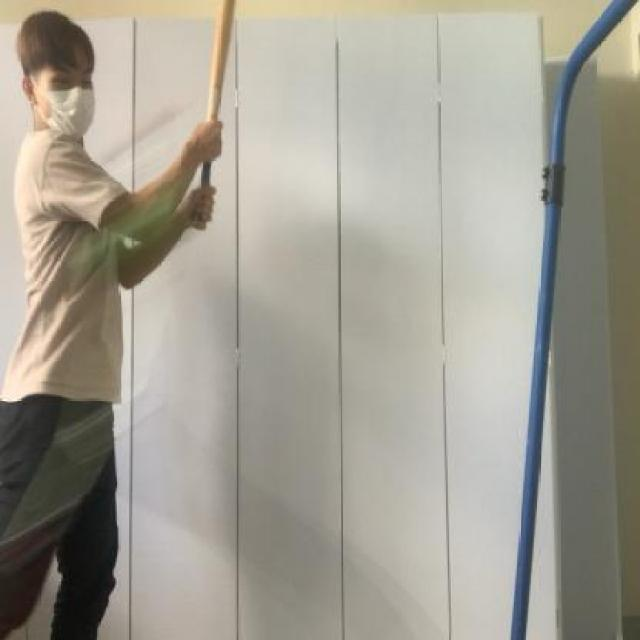baseball: (65, 157, 181, 271)
